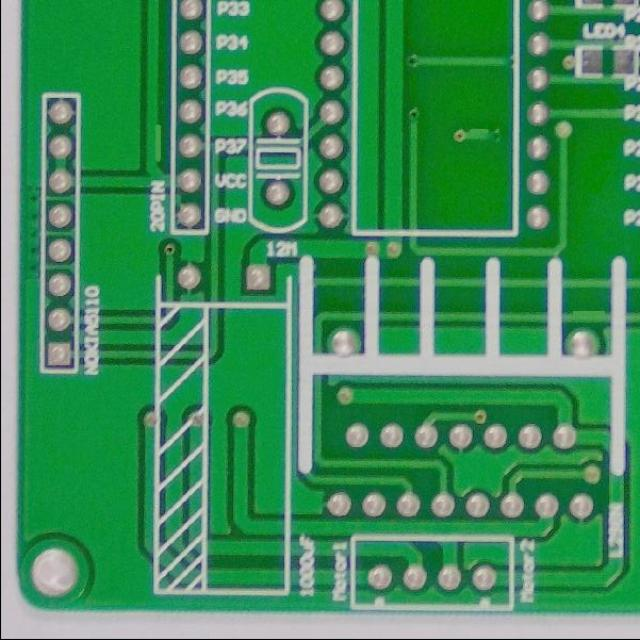Spur: (141, 117, 165, 166), (567, 303, 609, 325), (463, 122, 495, 147)
